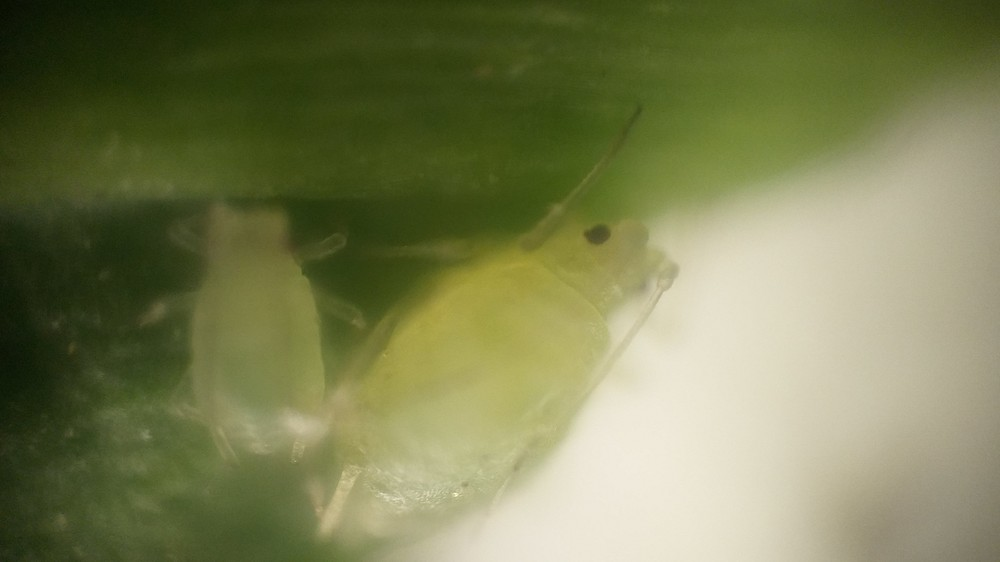Pulgon: (322, 125, 687, 552), (140, 180, 369, 473)
